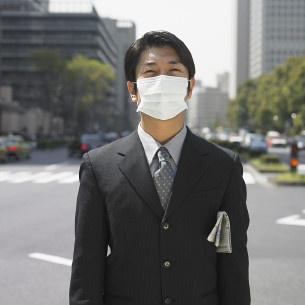Mask: (132, 58, 193, 119)
